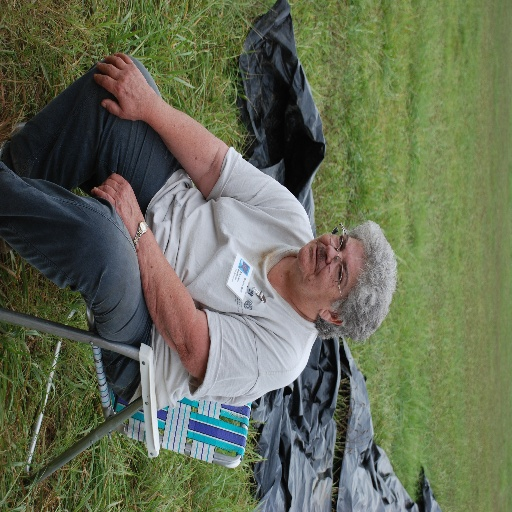hand: (85, 49, 171, 130), (90, 171, 143, 240)
